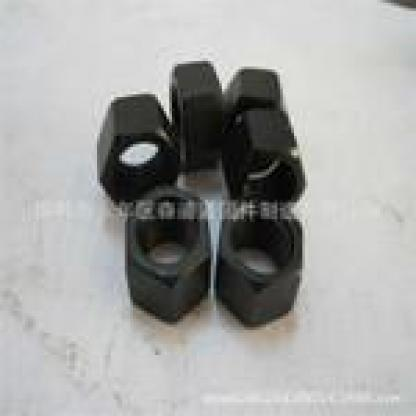FOD: (124, 186, 212, 322), (215, 198, 306, 320)
